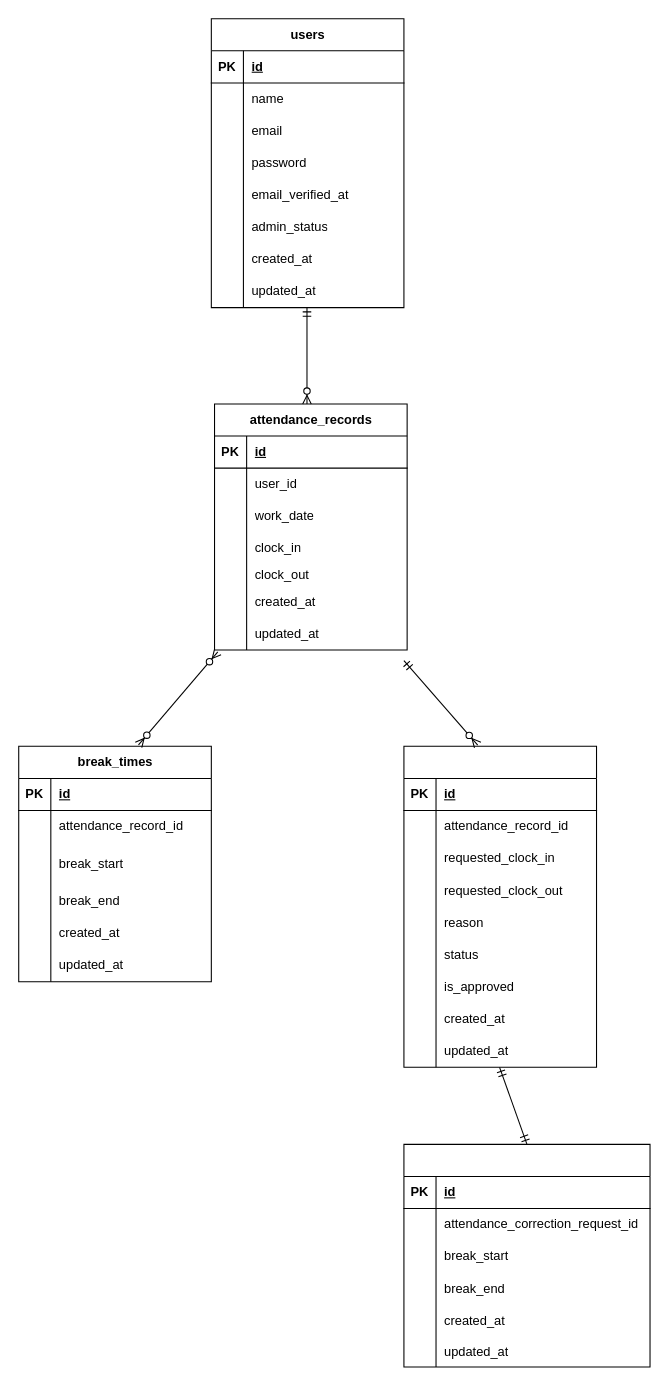
The diagram is 669 pixels wide and 1386 high, and some of its shapes have lost their labels. Each missing label, with the box of its shape:
attendance_correction_requests: (403, 745, 597, 1067)
attendance_corredtion_breaks: (403, 1143, 650, 1367)
